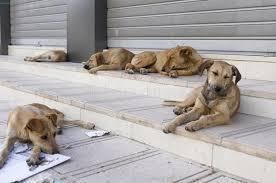normal_dogs: (1, 96, 98, 168), (164, 60, 241, 142), (128, 39, 202, 79), (86, 43, 130, 77), (23, 44, 67, 66)
